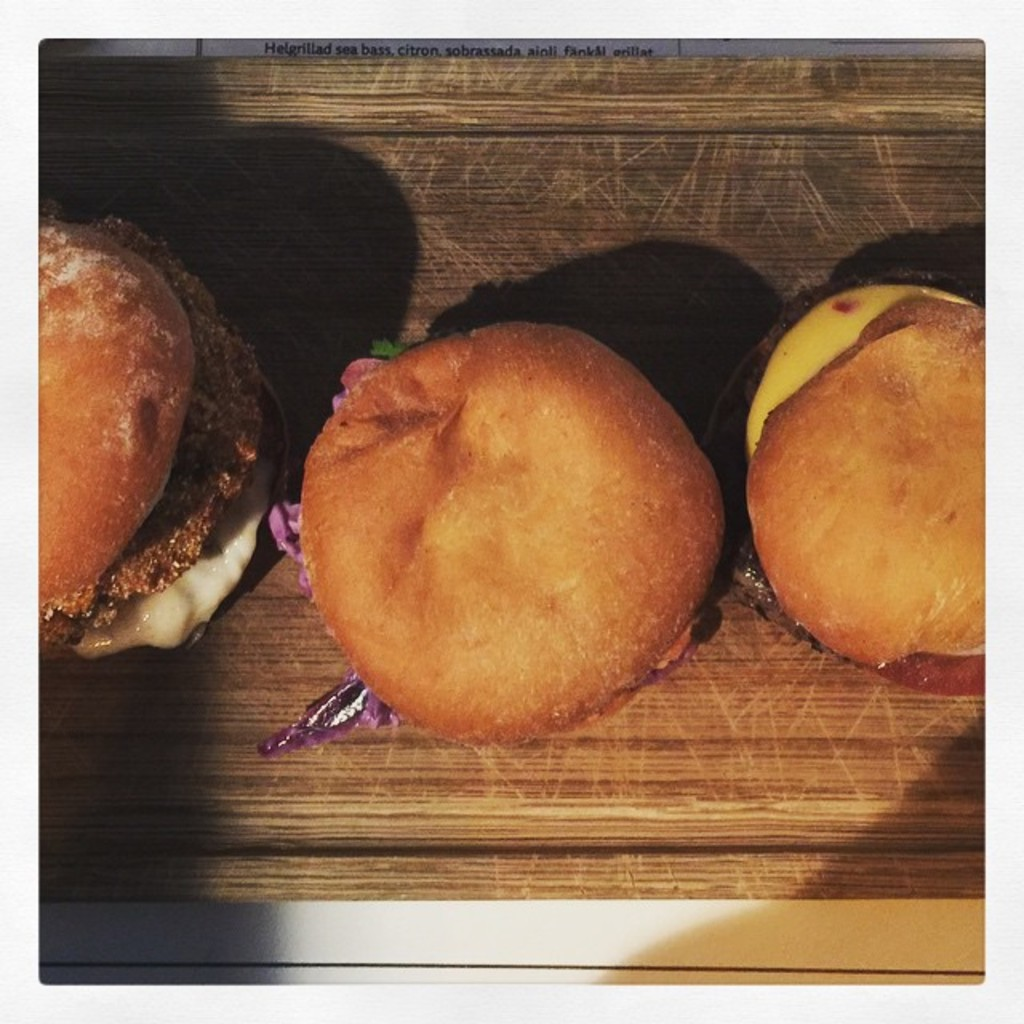Hamburger: (257, 316, 728, 760), (728, 270, 984, 697), (43, 216, 289, 654)
